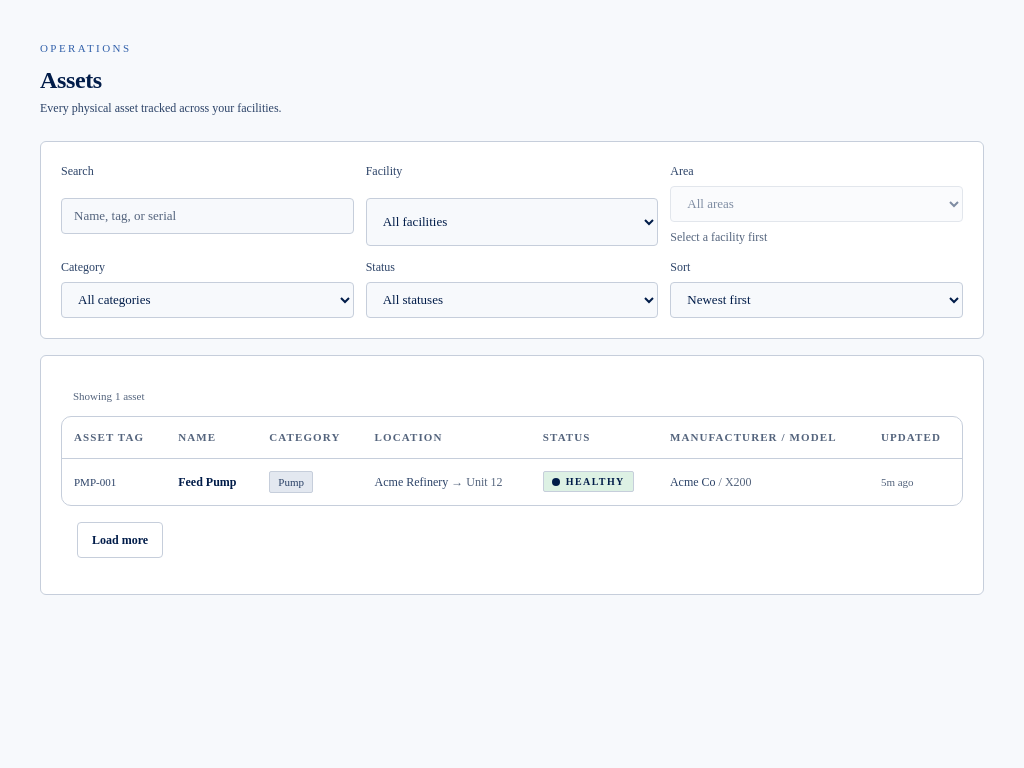
Scenario: assets page › loads more assets via cursor pagination and appends without duplicating
The image size is (1024, 768).
Expected: the text "Feed Pump" is shown, [166,458,257,505]
Click the button "Load more".
click(120, 540)  # box [77,522,163,558]
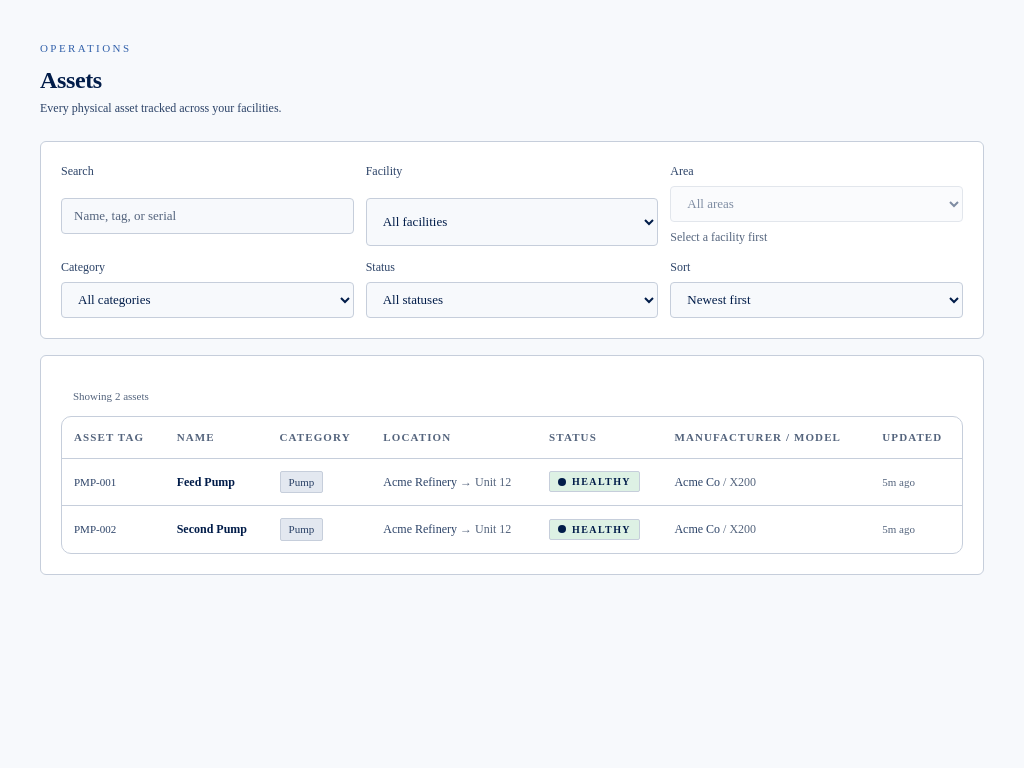
Expected: the text "Second Pump" is shown, [165,506,268,552]
Expected: the button "Load more" is gone
